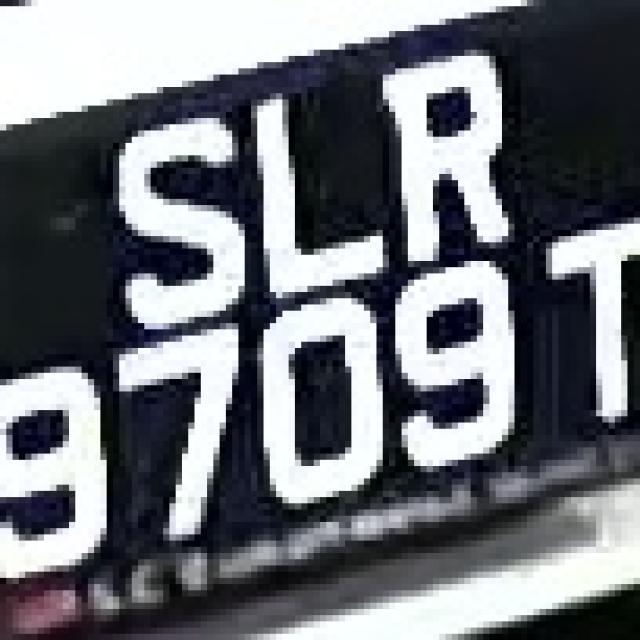0: (245, 280, 395, 503)
7: (100, 304, 251, 547)
9: (382, 255, 540, 466), (0, 323, 107, 597)
L: (257, 68, 402, 317)
R: (364, 43, 527, 261)
S: (100, 93, 264, 323)
T: (527, 205, 634, 454)
